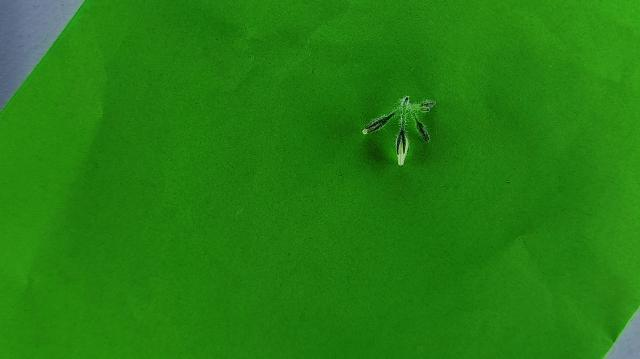Flower Bud: (363, 113, 395, 135), (396, 129, 409, 166), (417, 120, 431, 142), (420, 99, 436, 108)
